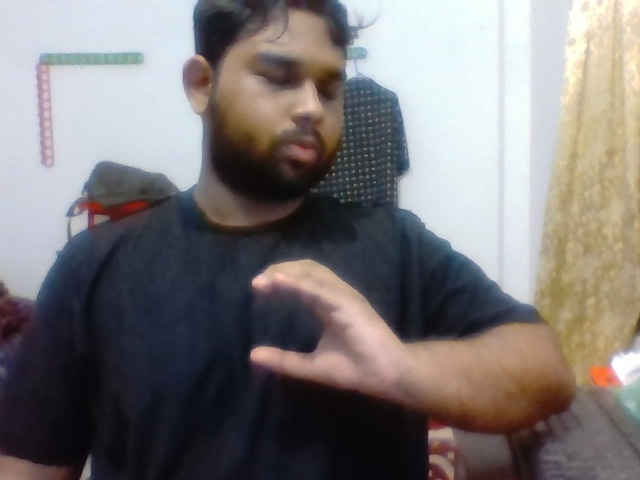C: (237, 257, 409, 409)
